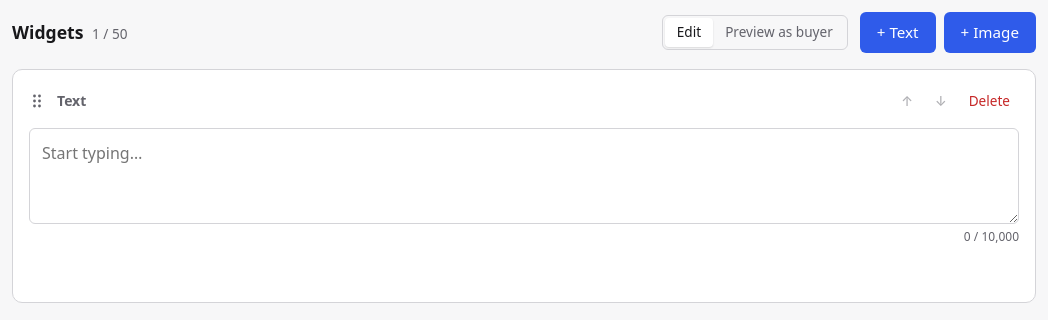
Scenario: WidgetBoard › buyer preview › shows a placeholder when there is nothing to show
Click the button "Preview as buyer": point(779, 32) [713, 18, 845, 47]
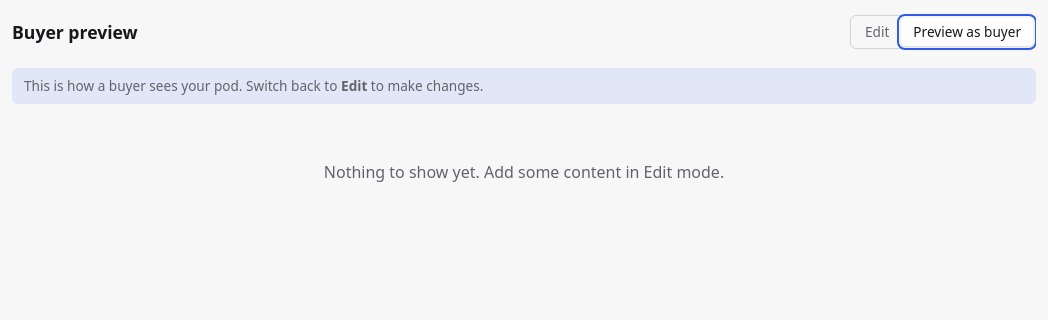
Expected: the text "Nothing to show yet. Add some content in Edit mode." is shown, [324, 161, 724, 183]
